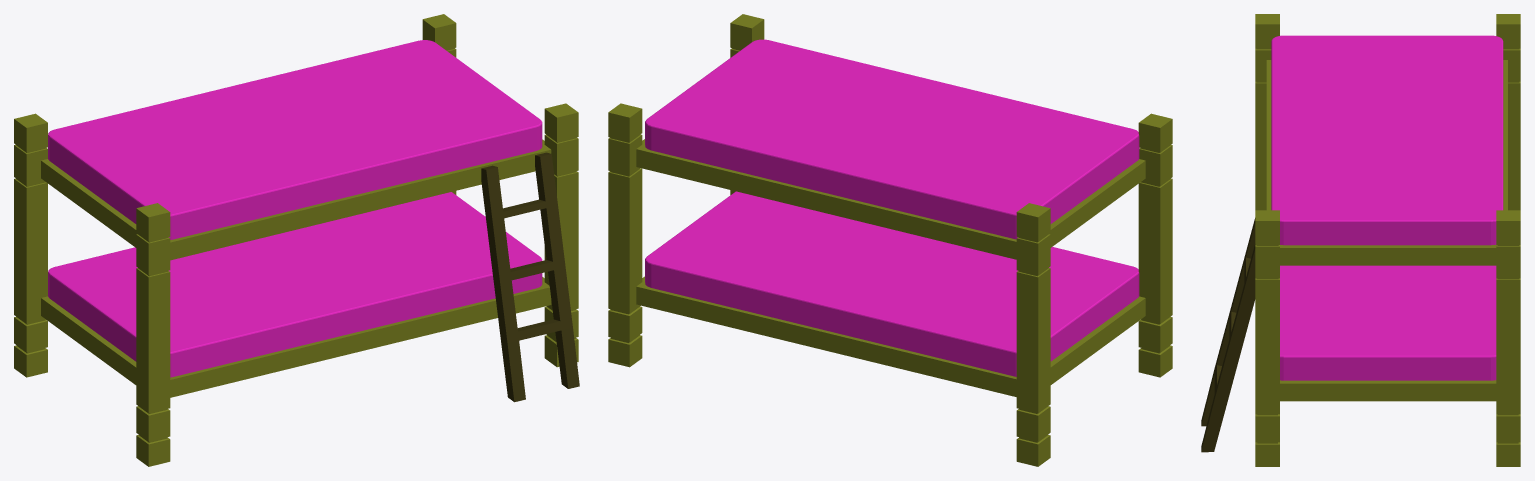
File: BunkBeds.fbx
3 views of the same model, side by side, from view 1: azimuth 30°, elevation 25°; view 2: azimuth 150°, elevation 25°; view 3: azimuth 270°, elevation 25° (orthographic).
Parts seen in each view (by area): view 1: BunkBed; view 2: BunkBed; view 3: BunkBed.
Boxes of the visible parts, left/top/right/bottom form: BunkBed: left=14, top=14, right=579, bottom=466; BunkBed: left=608, top=14, right=1172, bottom=466; BunkBed: left=1201, top=14, right=1520, bottom=466.
Size of the model in its own units: 314 by 174 by 205.
